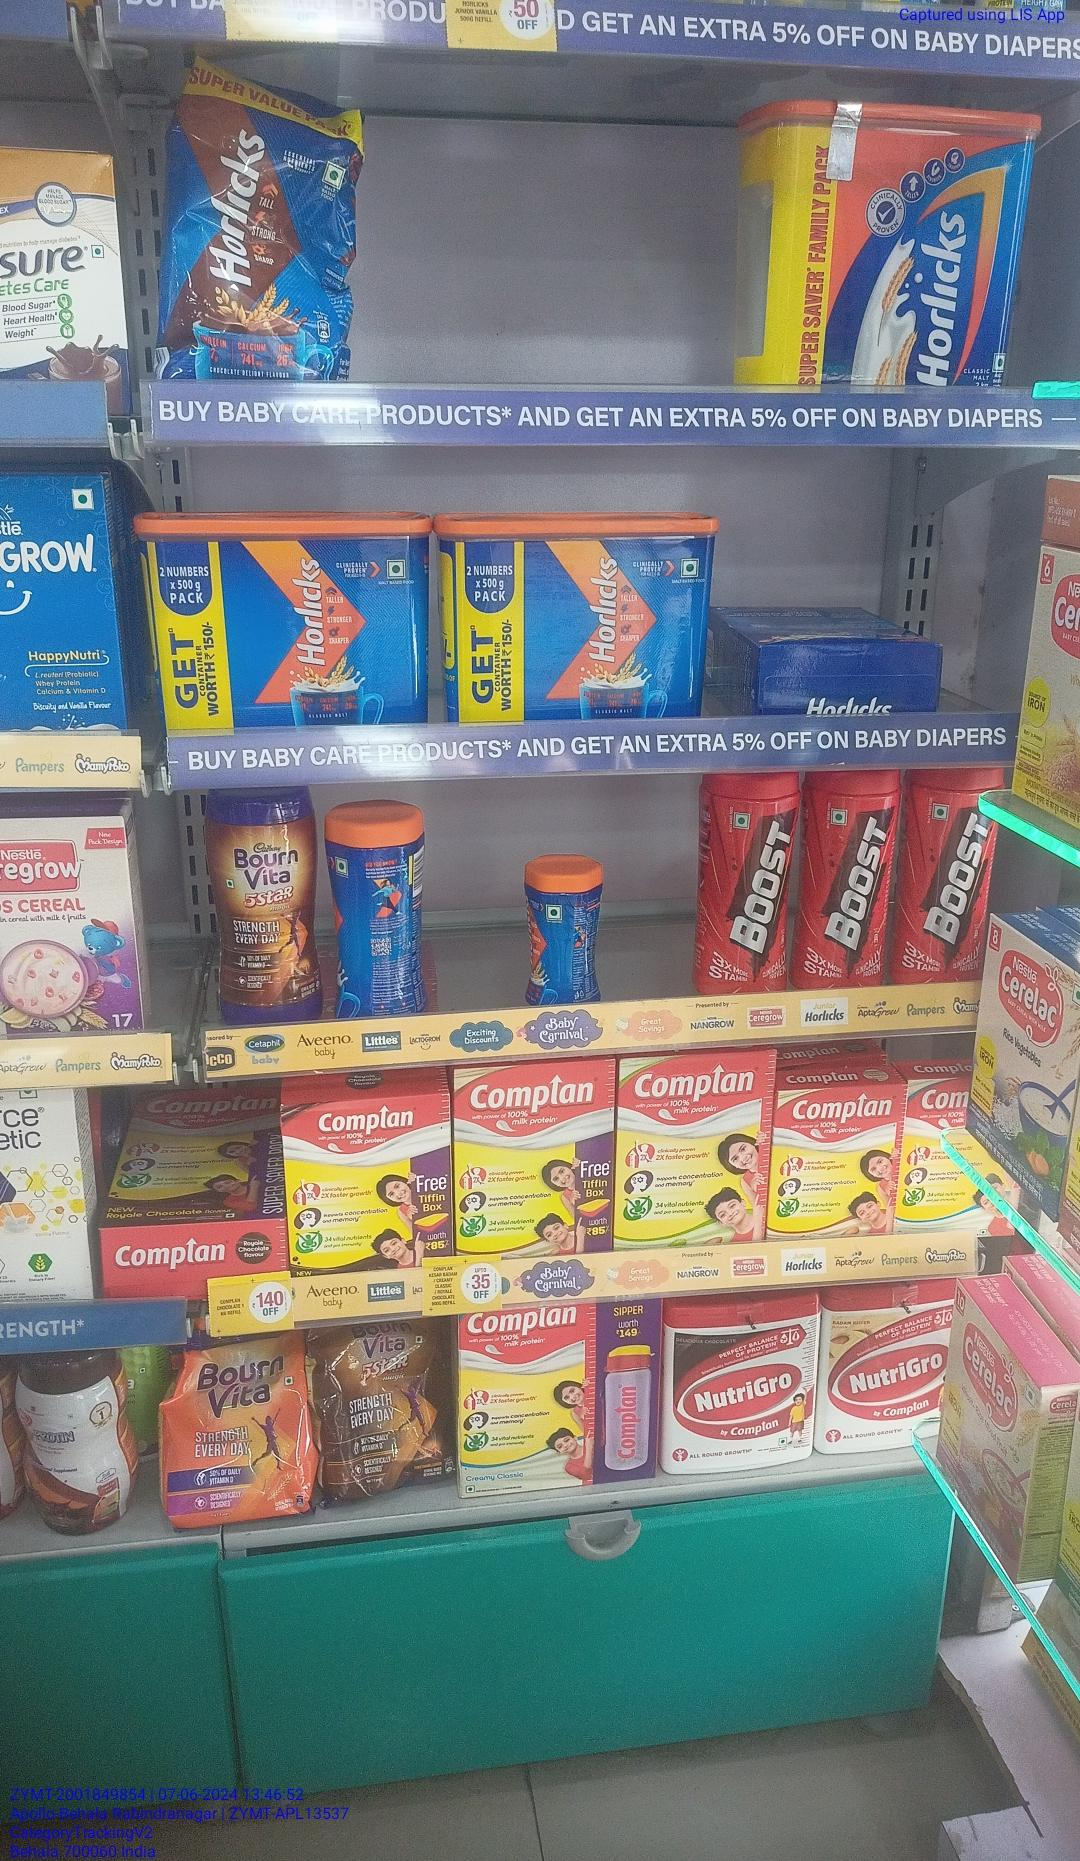BOURN_VITA_FIVE_STAR_MAGIC_500_G_JAR: (228, 793, 319, 1019)
BOURN_VITA_FIVE_STAR_MAGIC_500_G_POUCH: (325, 1315, 450, 1504)
HORLICK_MALT_1_KG_CONTAINER: (770, 126, 1029, 393), (163, 526, 424, 729), (442, 519, 701, 721)
